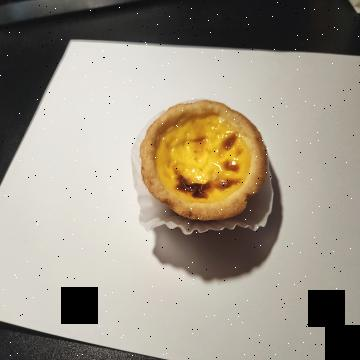EggTart: (139, 99, 267, 221)
